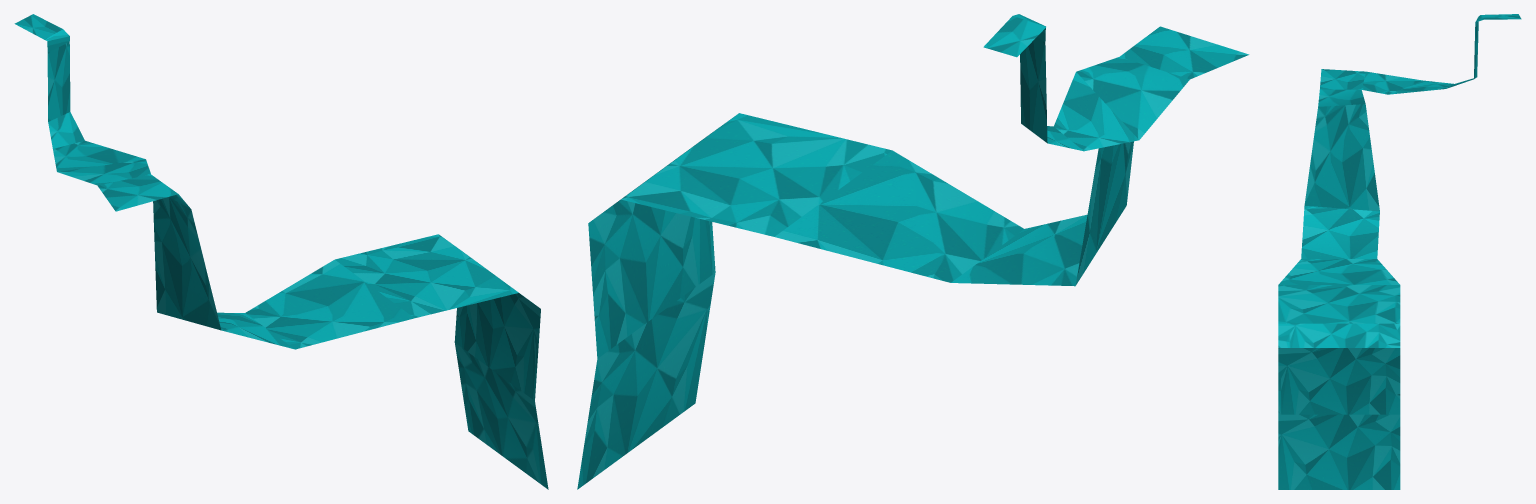
The model's file is Forest_waterfall.fbx.
The picture shows the model from 3 angles, left to right: view 1: azimuth 30°, elevation 25°; view 2: azimuth 150°, elevation 25°; view 3: azimuth 270°, elevation 25°; orthographic projection. The views are drawn at different scales.
Visible parts, largest first — view 1: pPlane1; view 2: pPlane1; view 3: pPlane1.
Boxes of the visible parts, x1=… form: pPlane1: x1=14, y1=14, x2=548, y2=489; pPlane1: x1=577, y1=14, x2=1249, y2=489; pPlane1: x1=1278, y1=14, x2=1521, y2=489.
Bounding box in the file's own units: 86.99 × 91.94 × 59.61.
Materials: 1 (1 with a texture image).
